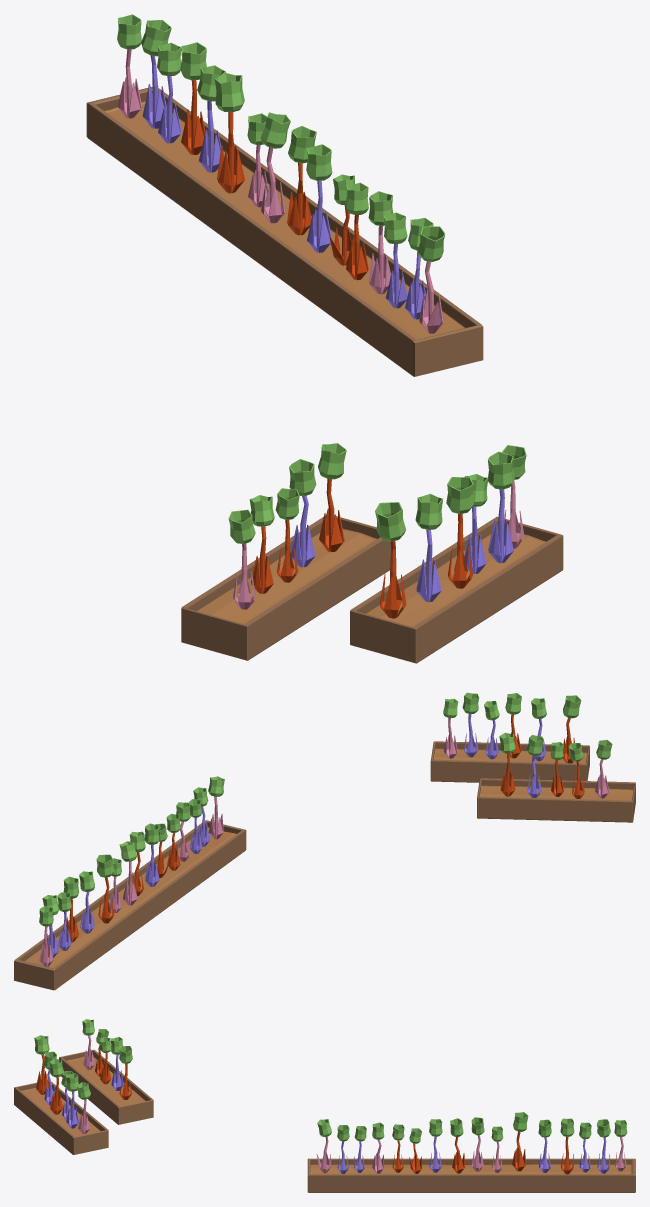
File: flower.fbx
3 renders of one model, top to bottom at view 1: azimuth 30°, elevation 25°; view 2: azimuth 150°, elevation 25°; view 3: azimuth 270°, elevation 25°, orthographic. The views are drawn at different scales.
Parts seen in each view (by area): view 1: Cube.094, Cube.101, Cube.102, Flower.003, Flower.075, Flower.078, Flower.005, Flower.069, Flower.074, Flower.011, Flower.076, Flower.014 (+18 smaller); view 2: Cube.094, Cube.101, Cube.102, Flower.003, Flower.014, Flower.069, Flower.009, Flower.011, Flower.078, Flower.075, Flower.001, Flower.070 (+16 smaller); view 3: Cube.094, Cube.102, Cube.101, Flower.003, Flower.075, Flower.076, Flower.010, Flower.078, Flower.005, Flower.014, Flower.009, Flower.007 (+17 smaller).
Boxes of the visible parts, x1,y1,x2,y2 form: Cube.094: [86, 86, 483, 376]; Cube.101: [181, 515, 390, 660]; Cube.102: [350, 516, 563, 663]; Flower.003: [215, 73, 244, 193]; Flower.075: [375, 502, 406, 618]; Flower.078: [488, 451, 514, 563]; Flower.005: [180, 42, 206, 154]; Flower.069: [318, 443, 346, 552]; Flower.074: [415, 493, 442, 602]; Flower.011: [306, 144, 332, 252]; Flower.076: [446, 477, 474, 588]; Flower.014: [417, 226, 445, 333]; Cube.094: [14, 820, 246, 990]; Cube.101: [477, 778, 635, 822]; Cube.102: [430, 741, 589, 782]; Flower.003: [96, 854, 114, 923]; Flower.014: [208, 776, 224, 839]; Flower.069: [499, 732, 515, 796]; Flower.009: [119, 841, 137, 905]; Flower.011: [144, 823, 159, 886]; Flower.078: [462, 692, 479, 757]; Flower.075: [563, 695, 581, 763]; Flower.001: [79, 871, 94, 933]; Flower.070: [527, 735, 543, 797]; Cube.094: [307, 1158, 635, 1192]; Cube.102: [14, 1080, 108, 1154]; Cube.101: [59, 1049, 153, 1124]; Flower.003: [512, 1112, 528, 1171]; Flower.075: [34, 1035, 49, 1094]; Flower.076: [49, 1058, 63, 1114]; Flower.010: [450, 1118, 464, 1173]; Flower.078: [66, 1073, 78, 1128]; Flower.005: [560, 1118, 574, 1174]; Flower.014: [316, 1119, 331, 1173]; Flower.009: [471, 1117, 484, 1171]; Flower.007: [597, 1119, 610, 1173].
Bounding box in the file's own units: 529 × 136 × 1105.
